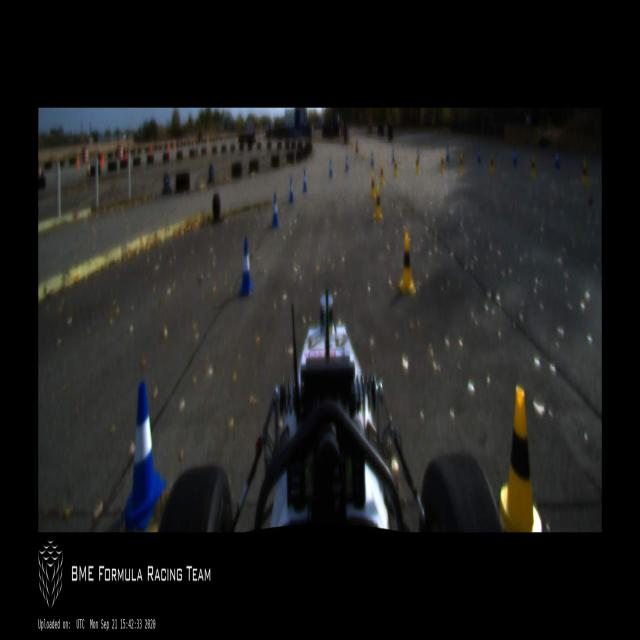blue_cone: (118, 378, 166, 532), (237, 237, 254, 298), (270, 193, 279, 224), (288, 178, 294, 200), (303, 172, 308, 191), (512, 148, 517, 166), (477, 146, 481, 165), (329, 160, 333, 178), (345, 155, 349, 173), (446, 145, 450, 163), (555, 150, 559, 168), (391, 151, 395, 163), (371, 151, 374, 166)
yellow_cone: (494, 388, 546, 532), (398, 232, 415, 294), (375, 186, 382, 220), (582, 160, 590, 188), (530, 154, 537, 181), (489, 151, 495, 177), (370, 172, 375, 200), (458, 152, 464, 174), (380, 161, 385, 187), (440, 152, 445, 174), (414, 154, 420, 172), (393, 157, 398, 177)
